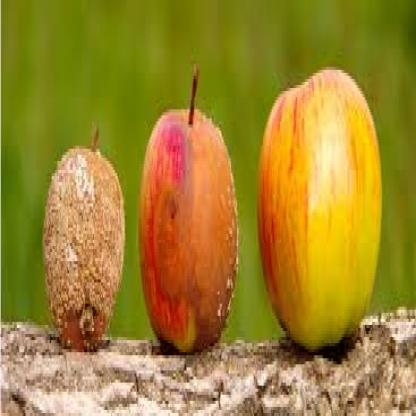apple: (260, 73, 386, 340)
damaged_apple: (140, 112, 237, 352), (43, 143, 124, 346)
